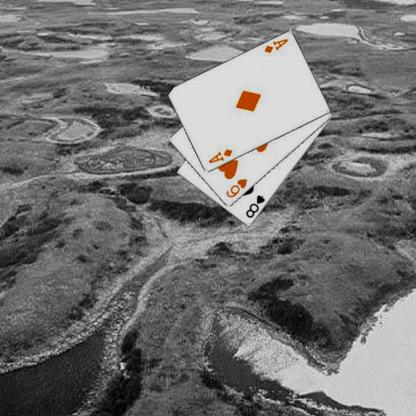6H: (224, 176, 248, 199)
8S: (243, 192, 266, 220)
AD: (262, 36, 289, 55), (206, 147, 233, 165)
